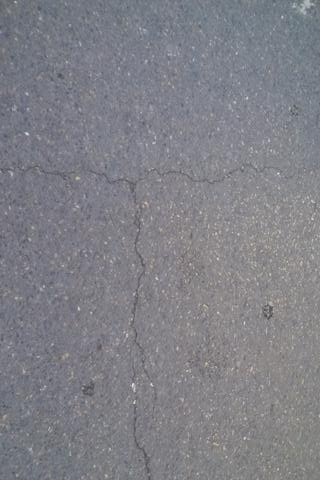A: (2, 162, 319, 189), (128, 183, 156, 480)
